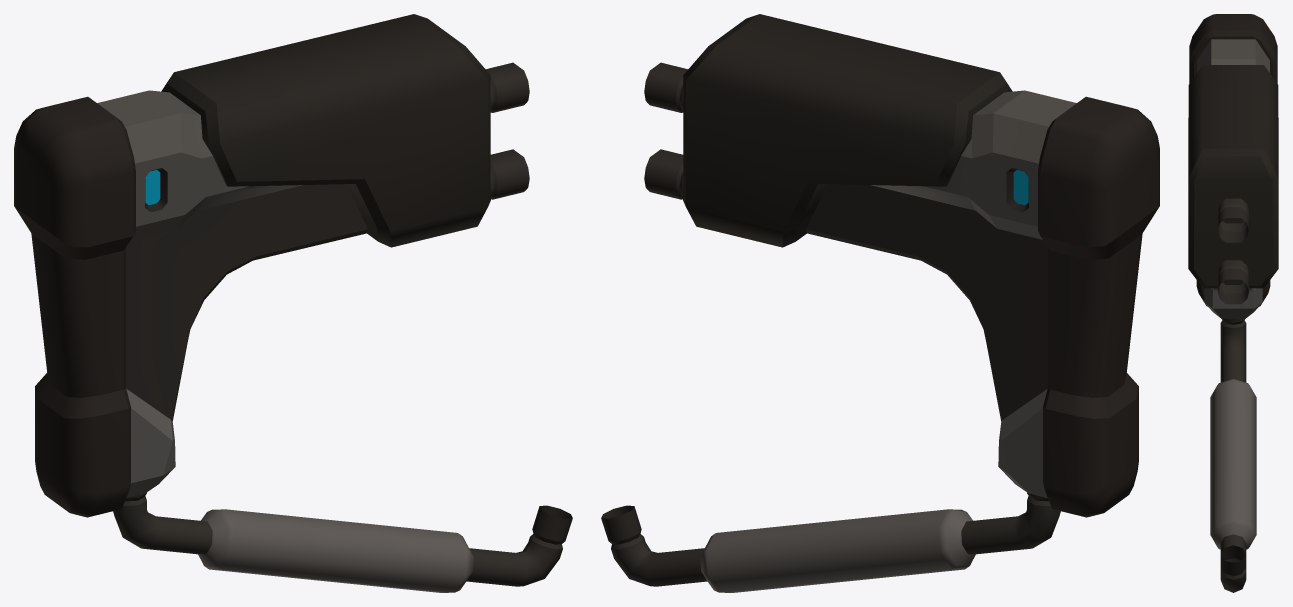
The model's file is SMG3_ButtstockLight.fbx.
3 renders of one model, left to right at view 1: azimuth 30°, elevation 25°; view 2: azimuth 150°, elevation 25°; view 3: azimuth 270°, elevation 25°, orthographic. The views are drawn at different scales.
Parts seen in each view (by area): view 1: SMG3_ButtstockLight; view 2: SMG3_ButtstockLight; view 3: SMG3_ButtstockLight.
Boxes of the visible parts, x1=… form: SMG3_ButtstockLight: x1=14, y1=14, x2=572, y2=592; SMG3_ButtstockLight: x1=601, y1=14, x2=1159, y2=592; SMG3_ButtstockLight: x1=1188, y1=14, x2=1278, y2=592.
Size of the model in its own units: 17.21 by 17.82 by 3.52.
